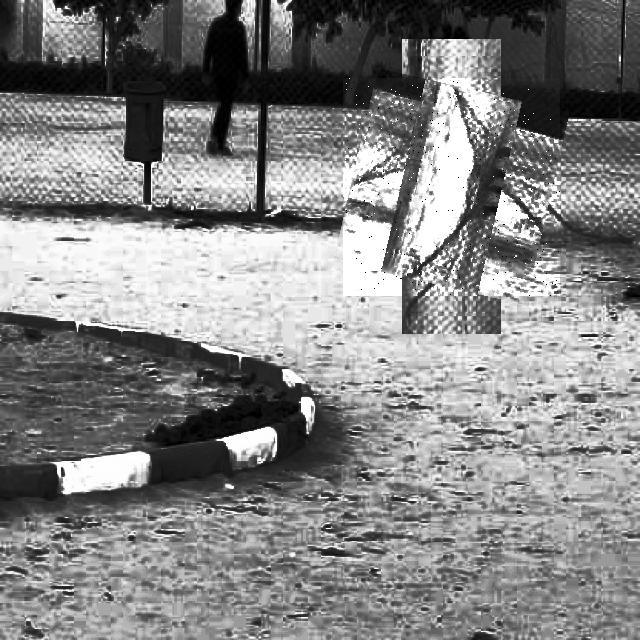anomaly-fence: (343, 78, 560, 296)
